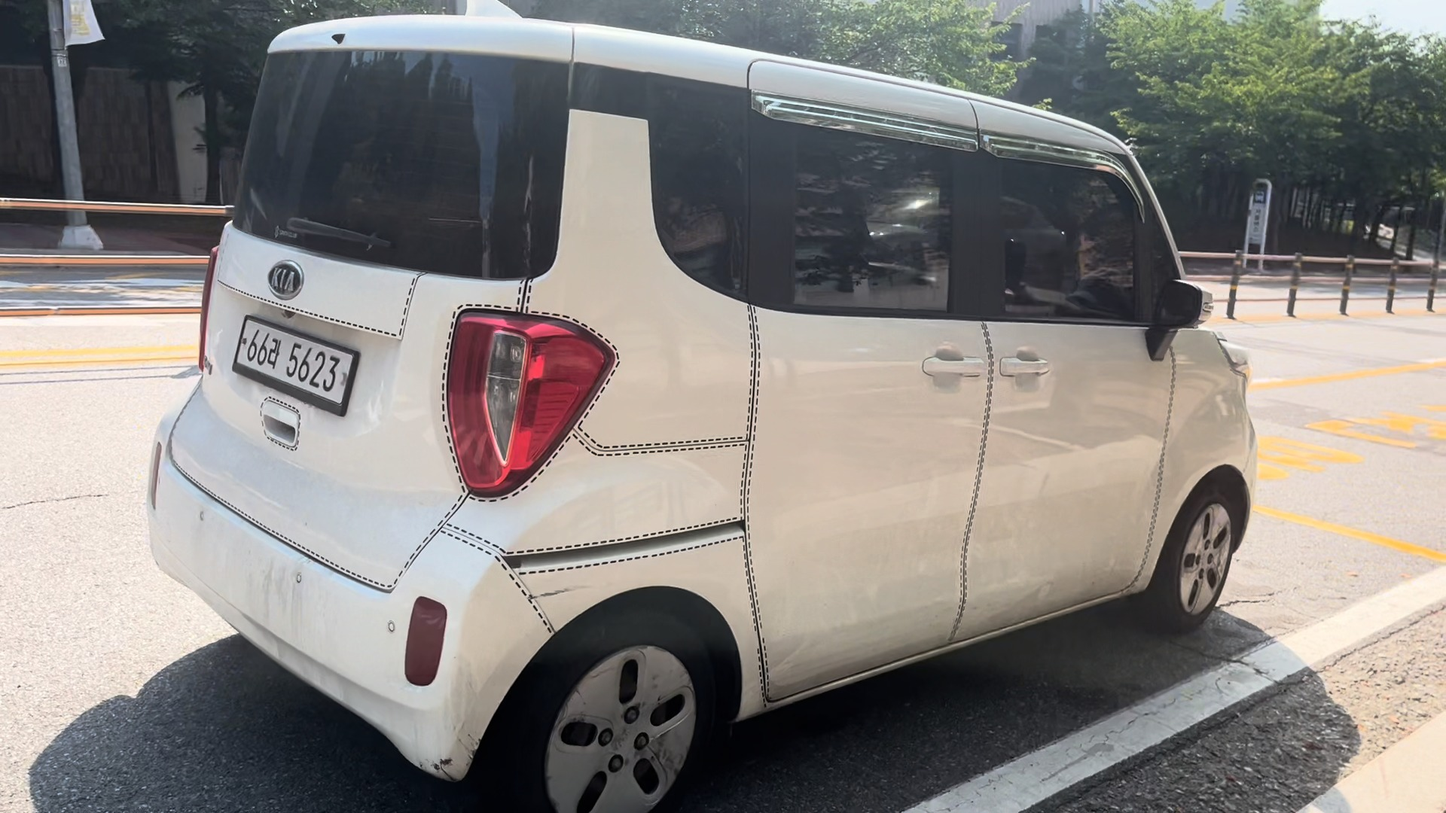car_emblem: (262, 260, 304, 299)
door_handle: (923, 357, 987, 377), (999, 357, 1049, 376)
license_plate: (233, 316, 358, 416)
side_mirror: (1146, 279, 1212, 360)
tail_light: (447, 313, 614, 495), (404, 597, 447, 685), (197, 246, 218, 372)
